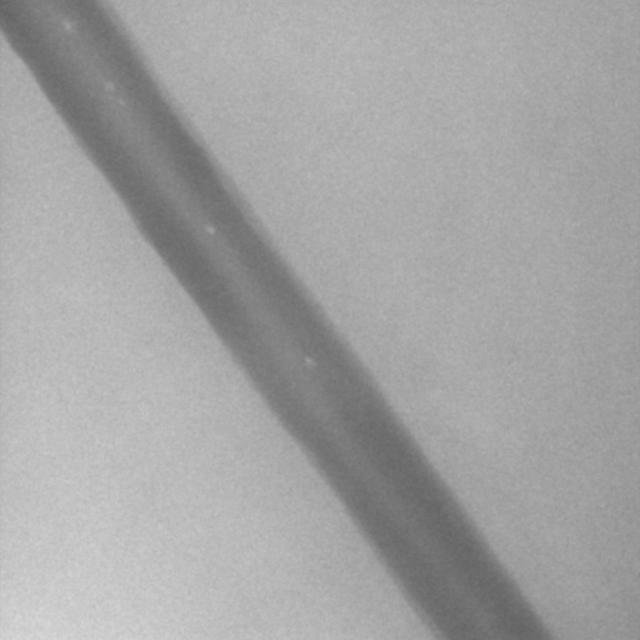air hole: (303, 355, 316, 370), (61, 20, 73, 34), (204, 223, 216, 237)
